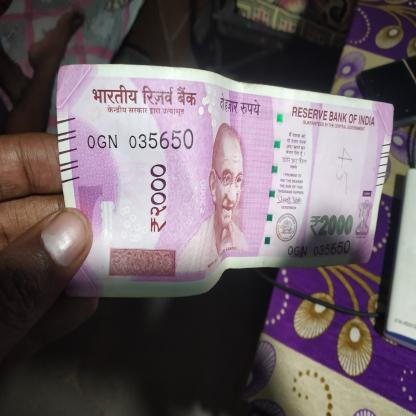New2000Front: (53, 66, 390, 272)
